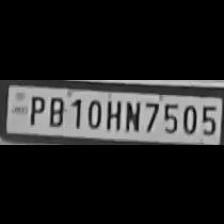0: (178, 100, 198, 134), (84, 96, 103, 128)
1: (66, 94, 84, 128)
5: (197, 100, 217, 136), (159, 99, 179, 134)
7: (140, 97, 160, 132)
8: (45, 93, 65, 127)
H: (104, 96, 122, 130)
N: (122, 96, 140, 132)
P: (24, 92, 46, 124)
